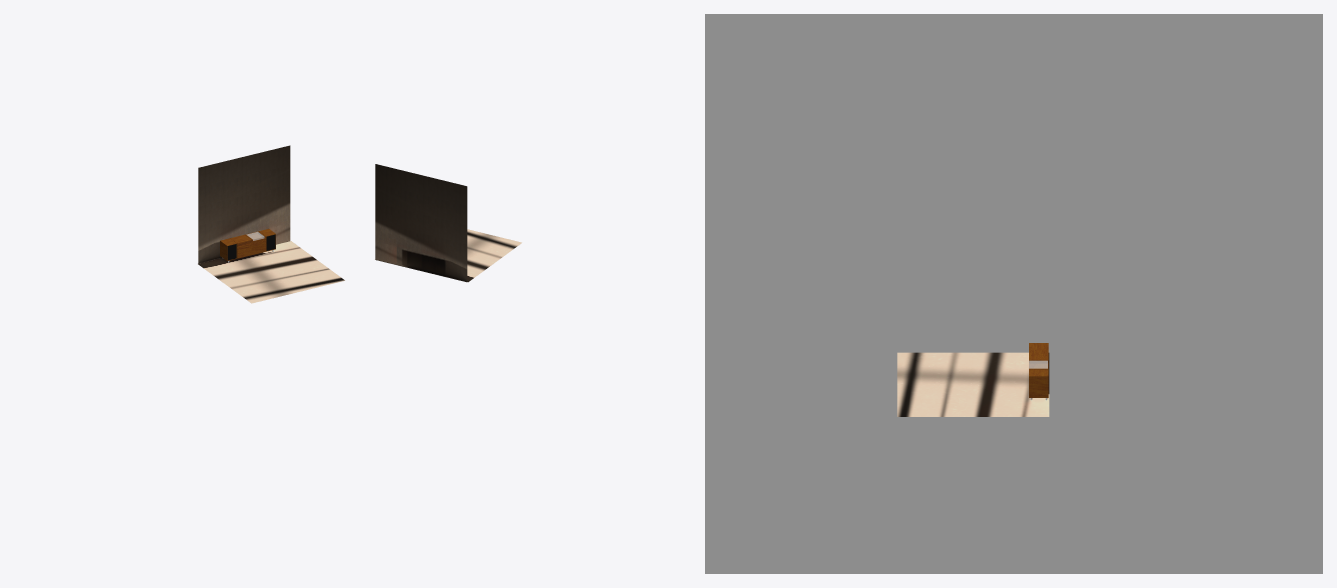
File: 3DTOWEBB_PREVIEW_2_OPTIMIZED.glb
The picture shows the model from 3 angles, left to right: view 1: azimuth 30°, elevation 25°; view 2: azimuth 150°, elevation 25°; view 3: azimuth 270°, elevation 25°; orthographic projection. The views are drawn at different scales.
Parts seen in each view (by area): view 1: Back_Wall, Floor, Bench; view 2: Back_Wall, Floor; view 3: Light_Bounce_Plane, Floor, Bench.
Boxes of the visible parts, x1,y1,x2,y2 form: Back_Wall: [198, 145, 290, 263]; Floor: [198, 241, 344, 303]; Bench: [220, 229, 275, 261]; Back_Wall: [375, 164, 467, 282]; Floor: [375, 229, 521, 282]; Light_Bounce_Plane: [705, 14, 1322, 573]; Floor: [897, 352, 1049, 416]; Bench: [1029, 343, 1048, 397].
Size of the model in its own units: 7.32 by 15.56 by 15.56.
6 materials, 3 textured.
